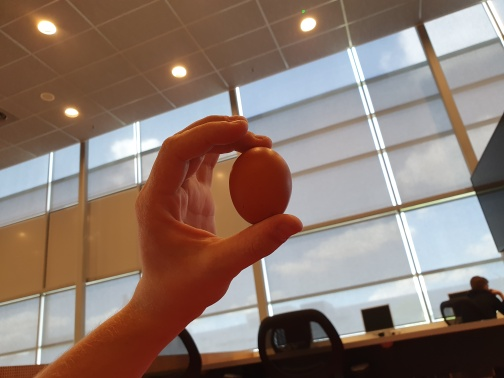egg: (229, 147, 293, 225)
